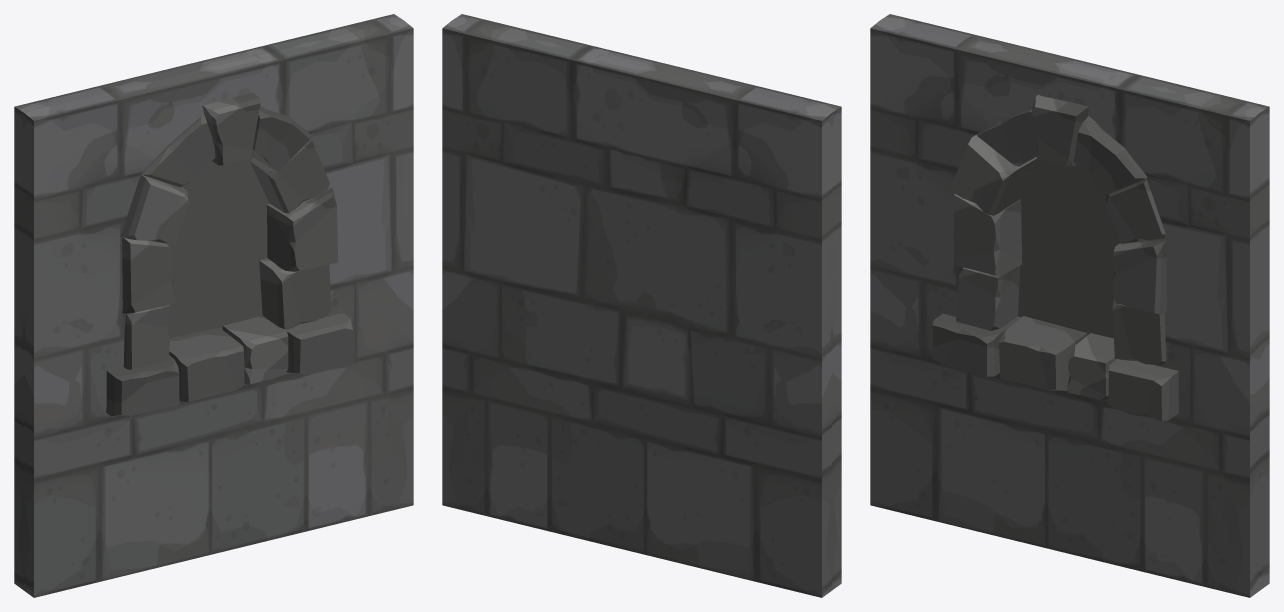
The model's file is wall_b.gltf.
3 views of the same model, side by side, from view 1: azimuth 30°, elevation 25°; view 2: azimuth 150°, elevation 25°; view 3: azimuth 330°, elevation 25° (orthographic).
Parts seen in each view (by area): view 1: wall_b; view 2: wall_b; view 3: wall_b.
Boxes of the visible parts, x1=… form: wall_b: x1=14, y1=14, x2=413, y2=597; wall_b: x1=442, y1=14, x2=841, y2=597; wall_b: x1=870, y1=14, x2=1269, y2=597.
Bounding box in the file's own units: 2.5 × 3.01 × 0.389.
Materials: 2 (2 with a texture image).
